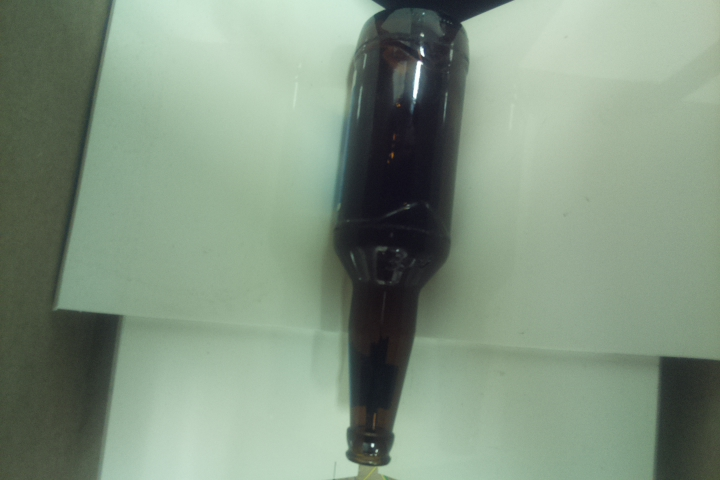makju: (327, 1, 471, 469)
